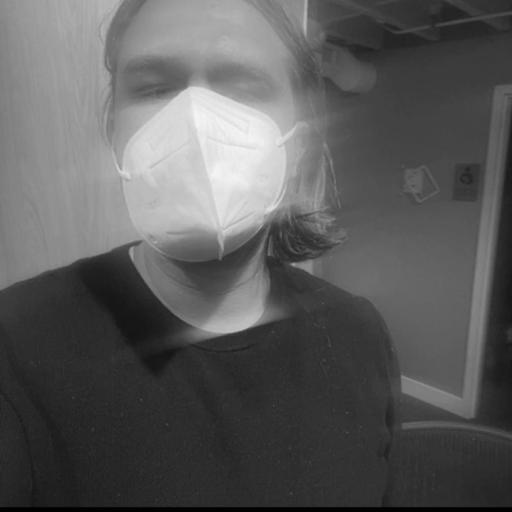mask: (85, 0, 349, 275)
